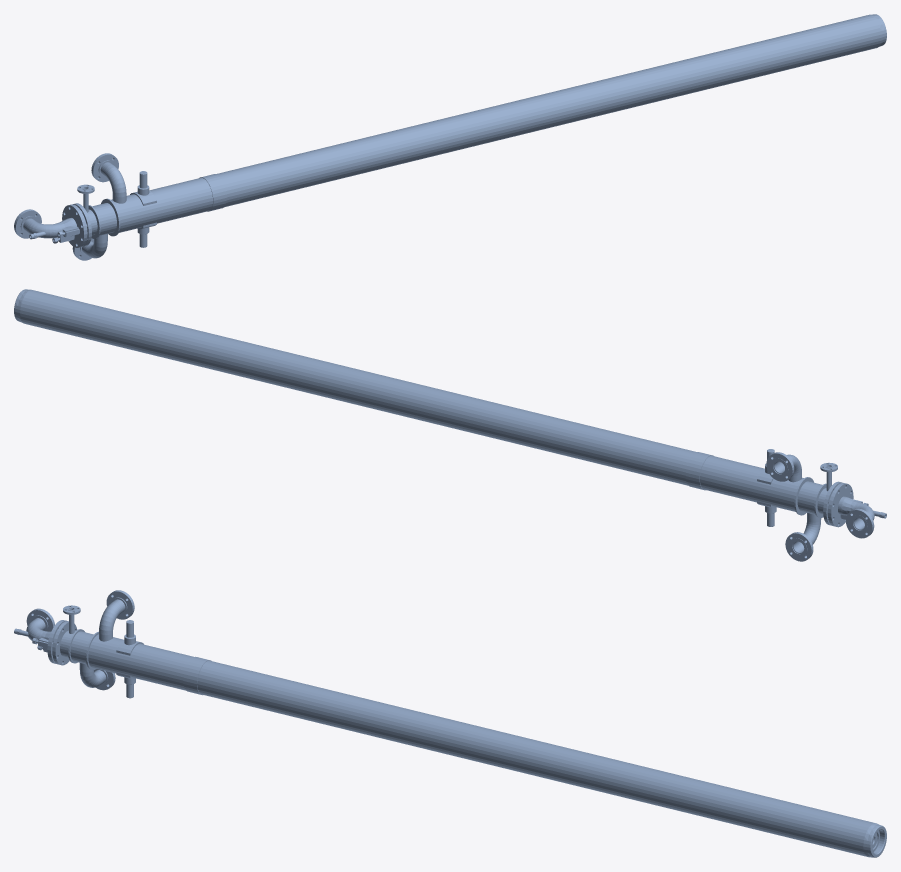
3 renders of one model, top to bottom at view 1: azimuth 30°, elevation 25°; view 2: azimuth 150°, elevation 25°; view 3: azimuth 330°, elevation 25°, orthographic.
Parts seen in each view (by area): view 1: part_0, part_23, part_5, part_3; view 2: part_0, part_23, part_67, part_16, part_12, part_5, part_3; view 3: part_0, part_5.
Part boxes in pixels (x1,y1,x2,y2): part_0: (87, 14, 886, 235); part_23: (62, 204, 87, 247); part_5: (199, 174, 226, 211); part_3: (93, 203, 116, 235); part_0: (14, 289, 827, 514); part_23: (827, 483, 853, 527); part_67: (846, 508, 874, 538); part_16: (785, 532, 813, 561); part_12: (766, 452, 794, 481); part_5: (686, 452, 713, 490); part_3: (797, 481, 822, 514); part_0: (60, 630, 886, 857); part_5: (183, 656, 211, 695).
Bounding box in the file's own units: 2.4 × 0.2721 × 0.1291.
